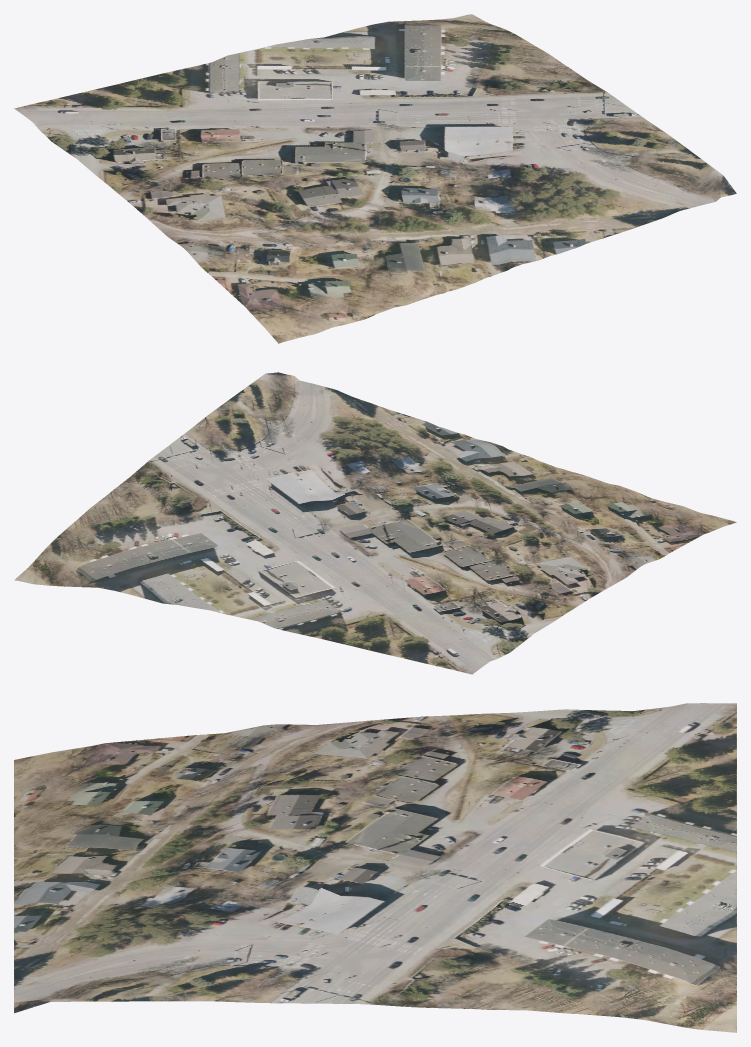
File: CM_Terrain_24491687_6819384.fbx
3 renders of one model, top to bottom at view 1: azimuth 30°, elevation 25°; view 2: azimuth 150°, elevation 25°; view 3: azimuth 270°, elevation 25°, orthographic. The views are drawn at different scales.
Parts seen in each view (by area): view 1: CM_Terrain_24491687_6819384_LOD0; view 2: CM_Terrain_24491687_6819384_LOD0; view 3: CM_Terrain_24491687_6819384_LOD0.
Boxes of the visible parts, x1=… form: CM_Terrain_24491687_6819384_LOD0: x1=14, y1=14, x2=736, y2=343; CM_Terrain_24491687_6819384_LOD0: x1=14, y1=372, x2=736, y2=674; CM_Terrain_24491687_6819384_LOD0: x1=14, y1=703, x2=736, y2=1032.
Size of what is drawn, in the model's own units: 205 by 20.11 by 205.
